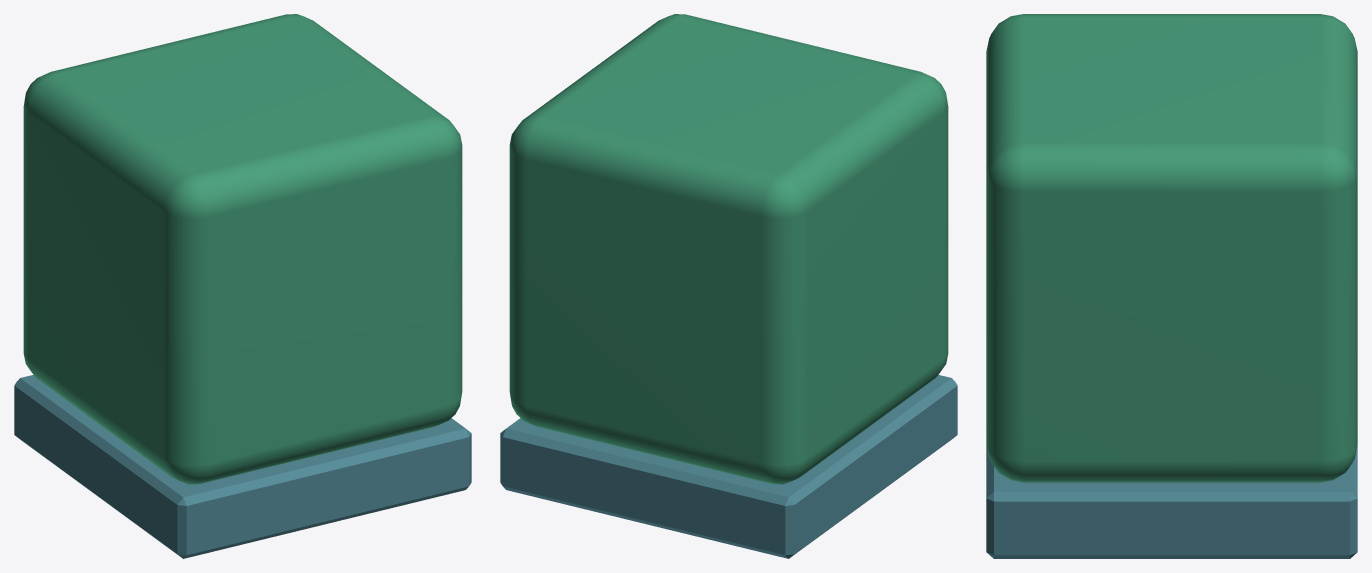
The model's file is Wall.fbx.
3 views of the same model, side by side, from view 1: azimuth 30°, elevation 25°; view 2: azimuth 150°, elevation 25°; view 3: azimuth 270°, elevation 25° (orthographic). The views are drawn at different scales.
Visible parts, largest first — view 1: pCube2, pCube1; view 2: pCube2, pCube1; view 3: pCube2, pCube1.
Part boxes in pixels (<box>): pCube2: <box>23,14,462,484</box>; pCube1: <box>14,375,471,558</box>; pCube2: <box>509,14,948,484</box>; pCube1: <box>500,375,957,558</box>; pCube2: <box>986,14,1357,482</box>; pCube1: <box>986,446,1357,558</box>.
Bounding box in the file's own units: 1 × 1.2 × 1.
